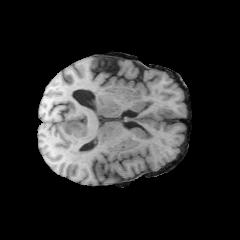glioma: (62, 116, 149, 161)
